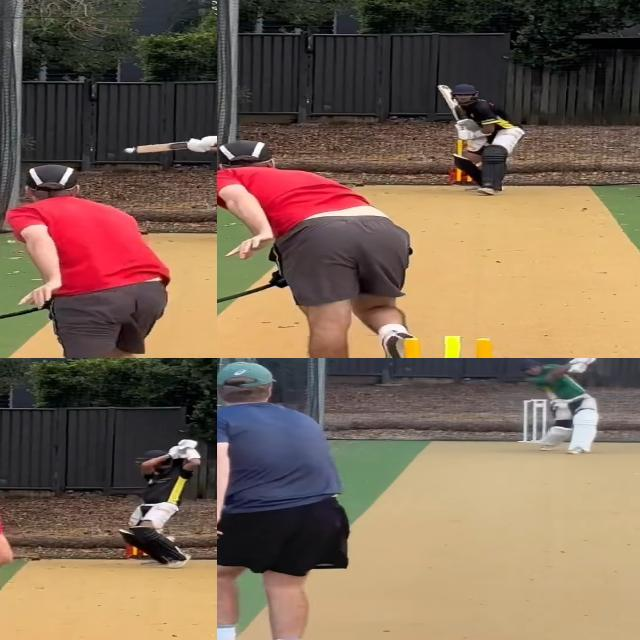Cricket ball: (533, 403, 547, 411), (124, 147, 136, 154)
Stumps: (522, 399, 549, 443)
